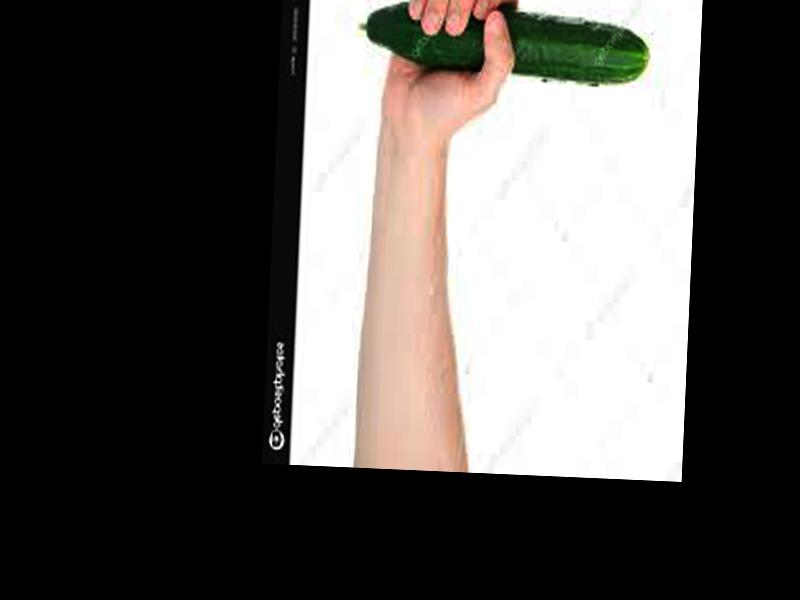Cucumber: (358, 0, 650, 85)
